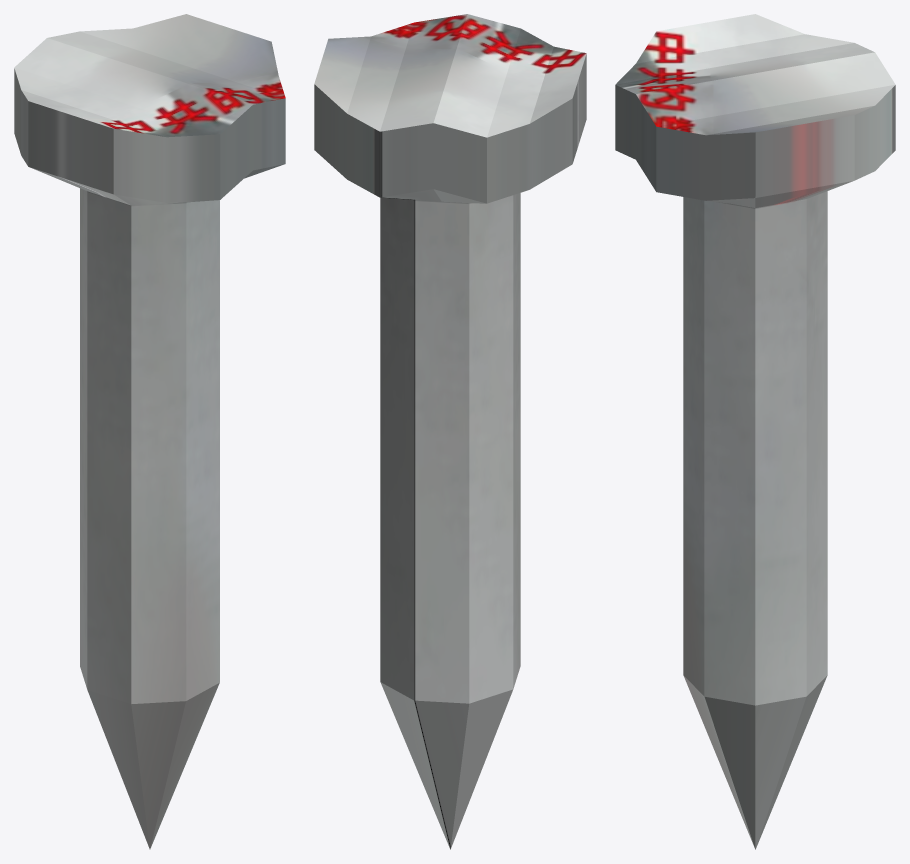
Rendered from bolt.fbx.
3 views of the same model, side by side, from view 1: azimuth 30°, elevation 25°; view 2: azimuth 150°, elevation 25°; view 3: azimuth 270°, elevation 25° (orthographic).
Visible parts, largest first — view 1: Cylinder; view 2: Cylinder; view 3: Cylinder.
Part boxes in pixels (bbox=[...]): Cylinder: bbox=[14, 14, 285, 849]; Cylinder: bbox=[314, 14, 586, 849]; Cylinder: bbox=[615, 14, 895, 849].
Size of the model in its own units: 388 by 1187 by 388.
1 material, 1 textured.
